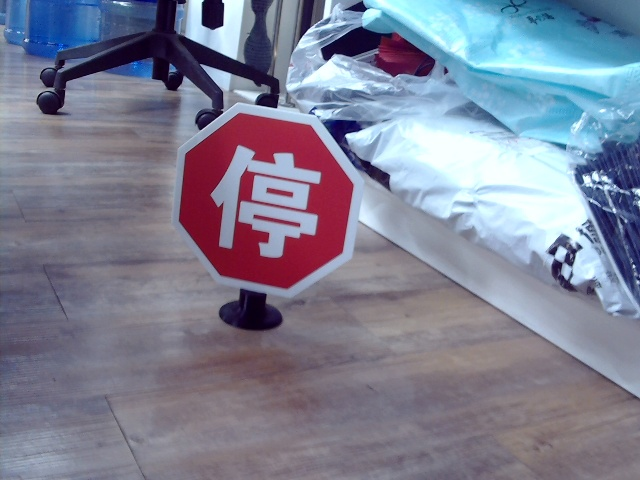stop: (212, 138, 318, 259)
